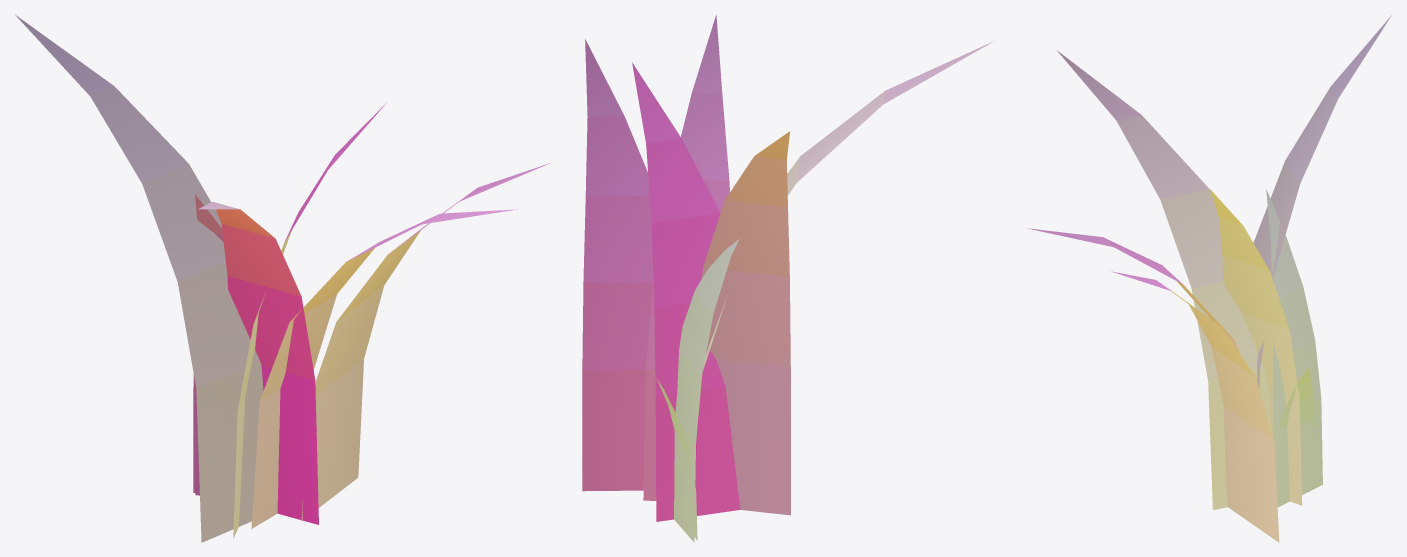
The model's file is grass_iso_full.gltf.
The picture shows the model from 3 angles, left to right: view 1: azimuth 30°, elevation 25°; view 2: azimuth 150°, elevation 25°; view 3: azimuth 270°, elevation 25°; orthographic projection. The views are drawn at different scales.
Visible parts, largest first — view 1: grass_iso_full; view 2: grass_iso_full; view 3: grass_iso_full.
Part boxes in pixels (x1,y1,x2,y2): grass_iso_full: (15,15,551,542); grass_iso_full: (582,15,994,542); grass_iso_full: (1027,15,1391,542).
Bounding box in the file's own units: 0.3644 × 0.4339 × 0.3498.
